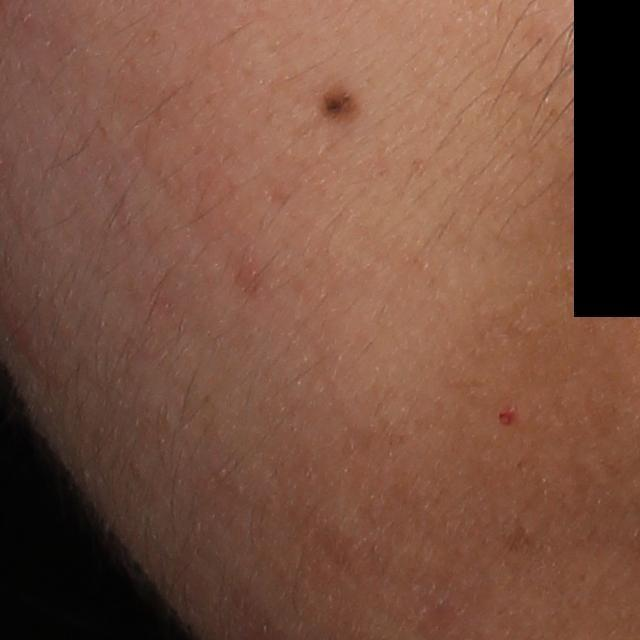nevus: (319, 80, 359, 126)
other: (495, 403, 518, 428)
